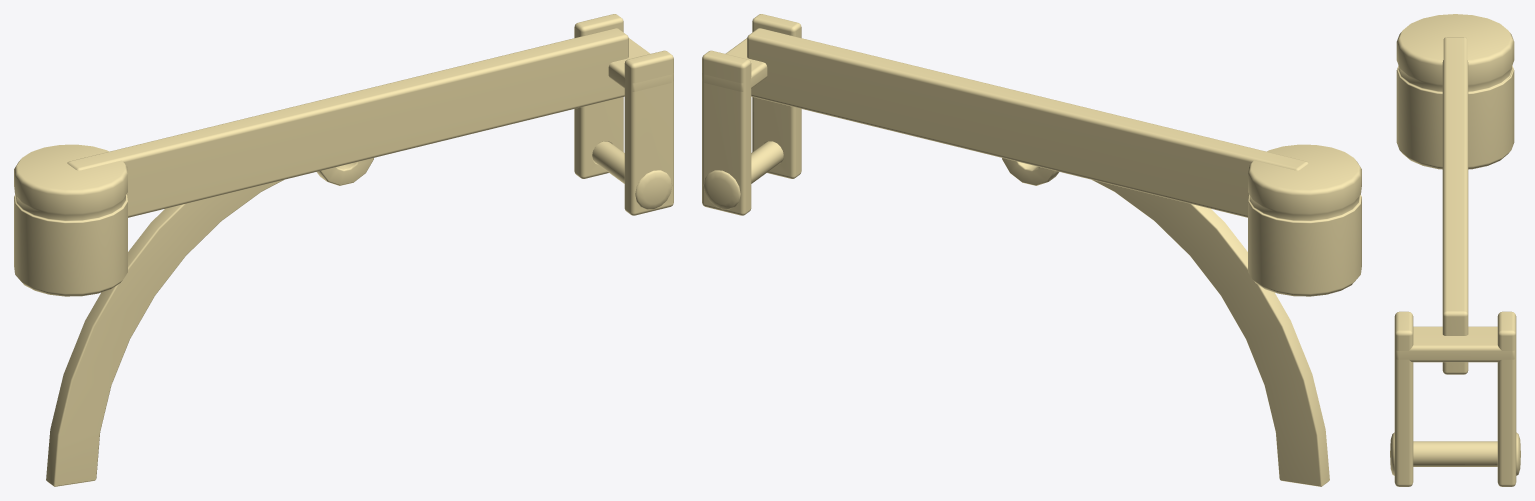
3 views of the same model, side by side, from view 1: azimuth 30°, elevation 25°; view 2: azimuth 150°, elevation 25°; view 3: azimuth 270°, elevation 25° (orthographic). The views are drawn at different scales.
Visible parts, largest first — view 1: Fixed / Polished pale brass, Yoke cheek, Yoke cheek.001; view 2: Fixed / Polished pale brass, Yoke cheek.001, Yoke cheek; view 3: Fixed / Polished pale brass, Yoke cheek, Yoke cheek.001.
Boxes of the visible parts, x1,y1,x2,y2 form: Fixed / Polished pale brass: (14, 28, 673, 486); Yoke cheek: (624, 50, 673, 215); Yoke cheek.001: (574, 14, 623, 178); Fixed / Polished pale brass: (702, 28, 1361, 486); Yoke cheek.001: (702, 50, 751, 215); Yoke cheek: (752, 14, 801, 178); Fixed / Polished pale brass: (1390, 14, 1520, 475); Yoke cheek: (1394, 311, 1413, 486); Yoke cheek.001: (1497, 311, 1516, 486).
Size of the model in its own units: 0.1006 by 0.0489 by 0.0178.
